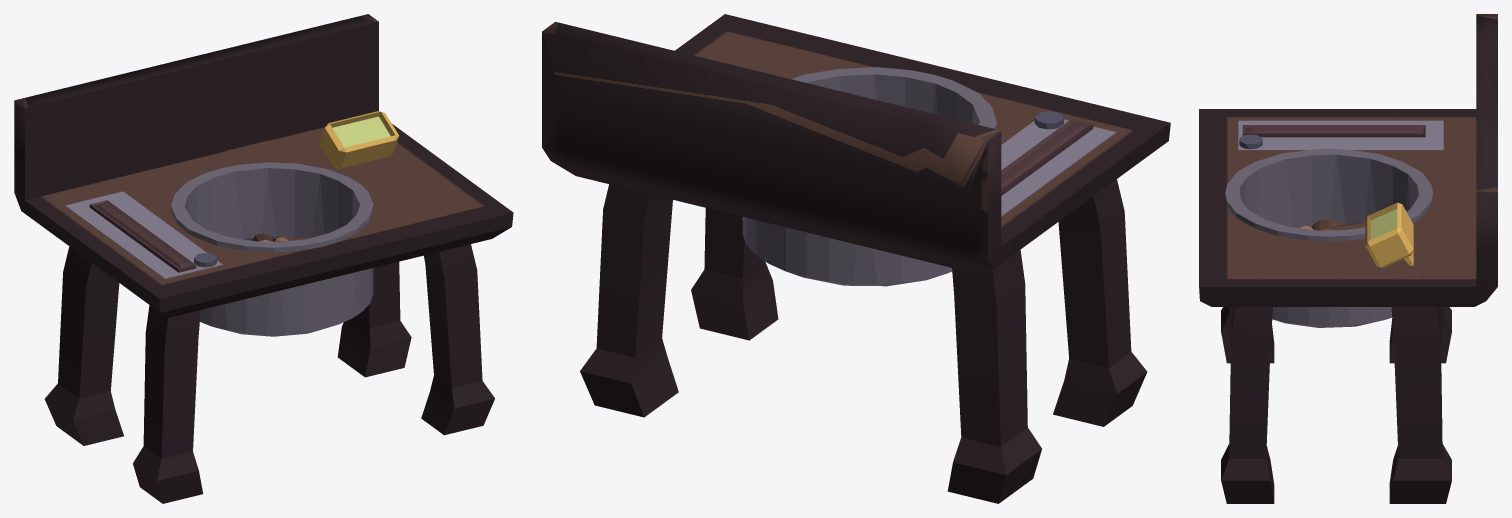
The model's file is Brewing_Station.fbx.
3 renders of one model, left to right at view 1: azimuth 30°, elevation 25°; view 2: azimuth 150°, elevation 25°; view 3: azimuth 270°, elevation 25°, orthographic. The views are drawn at different scales.
Parts seen in each view (by area): view 1: BrewingTable; view 2: BrewingTable; view 3: BrewingTable.
Boxes of the visible parts, bbox=[...] form: BrewingTable: bbox=[14, 14, 513, 503]; BrewingTable: bbox=[542, 14, 1170, 503]; BrewingTable: bbox=[1199, 14, 1497, 503].
Size of the model in its own units: 12616 by 10603 by 8960.
